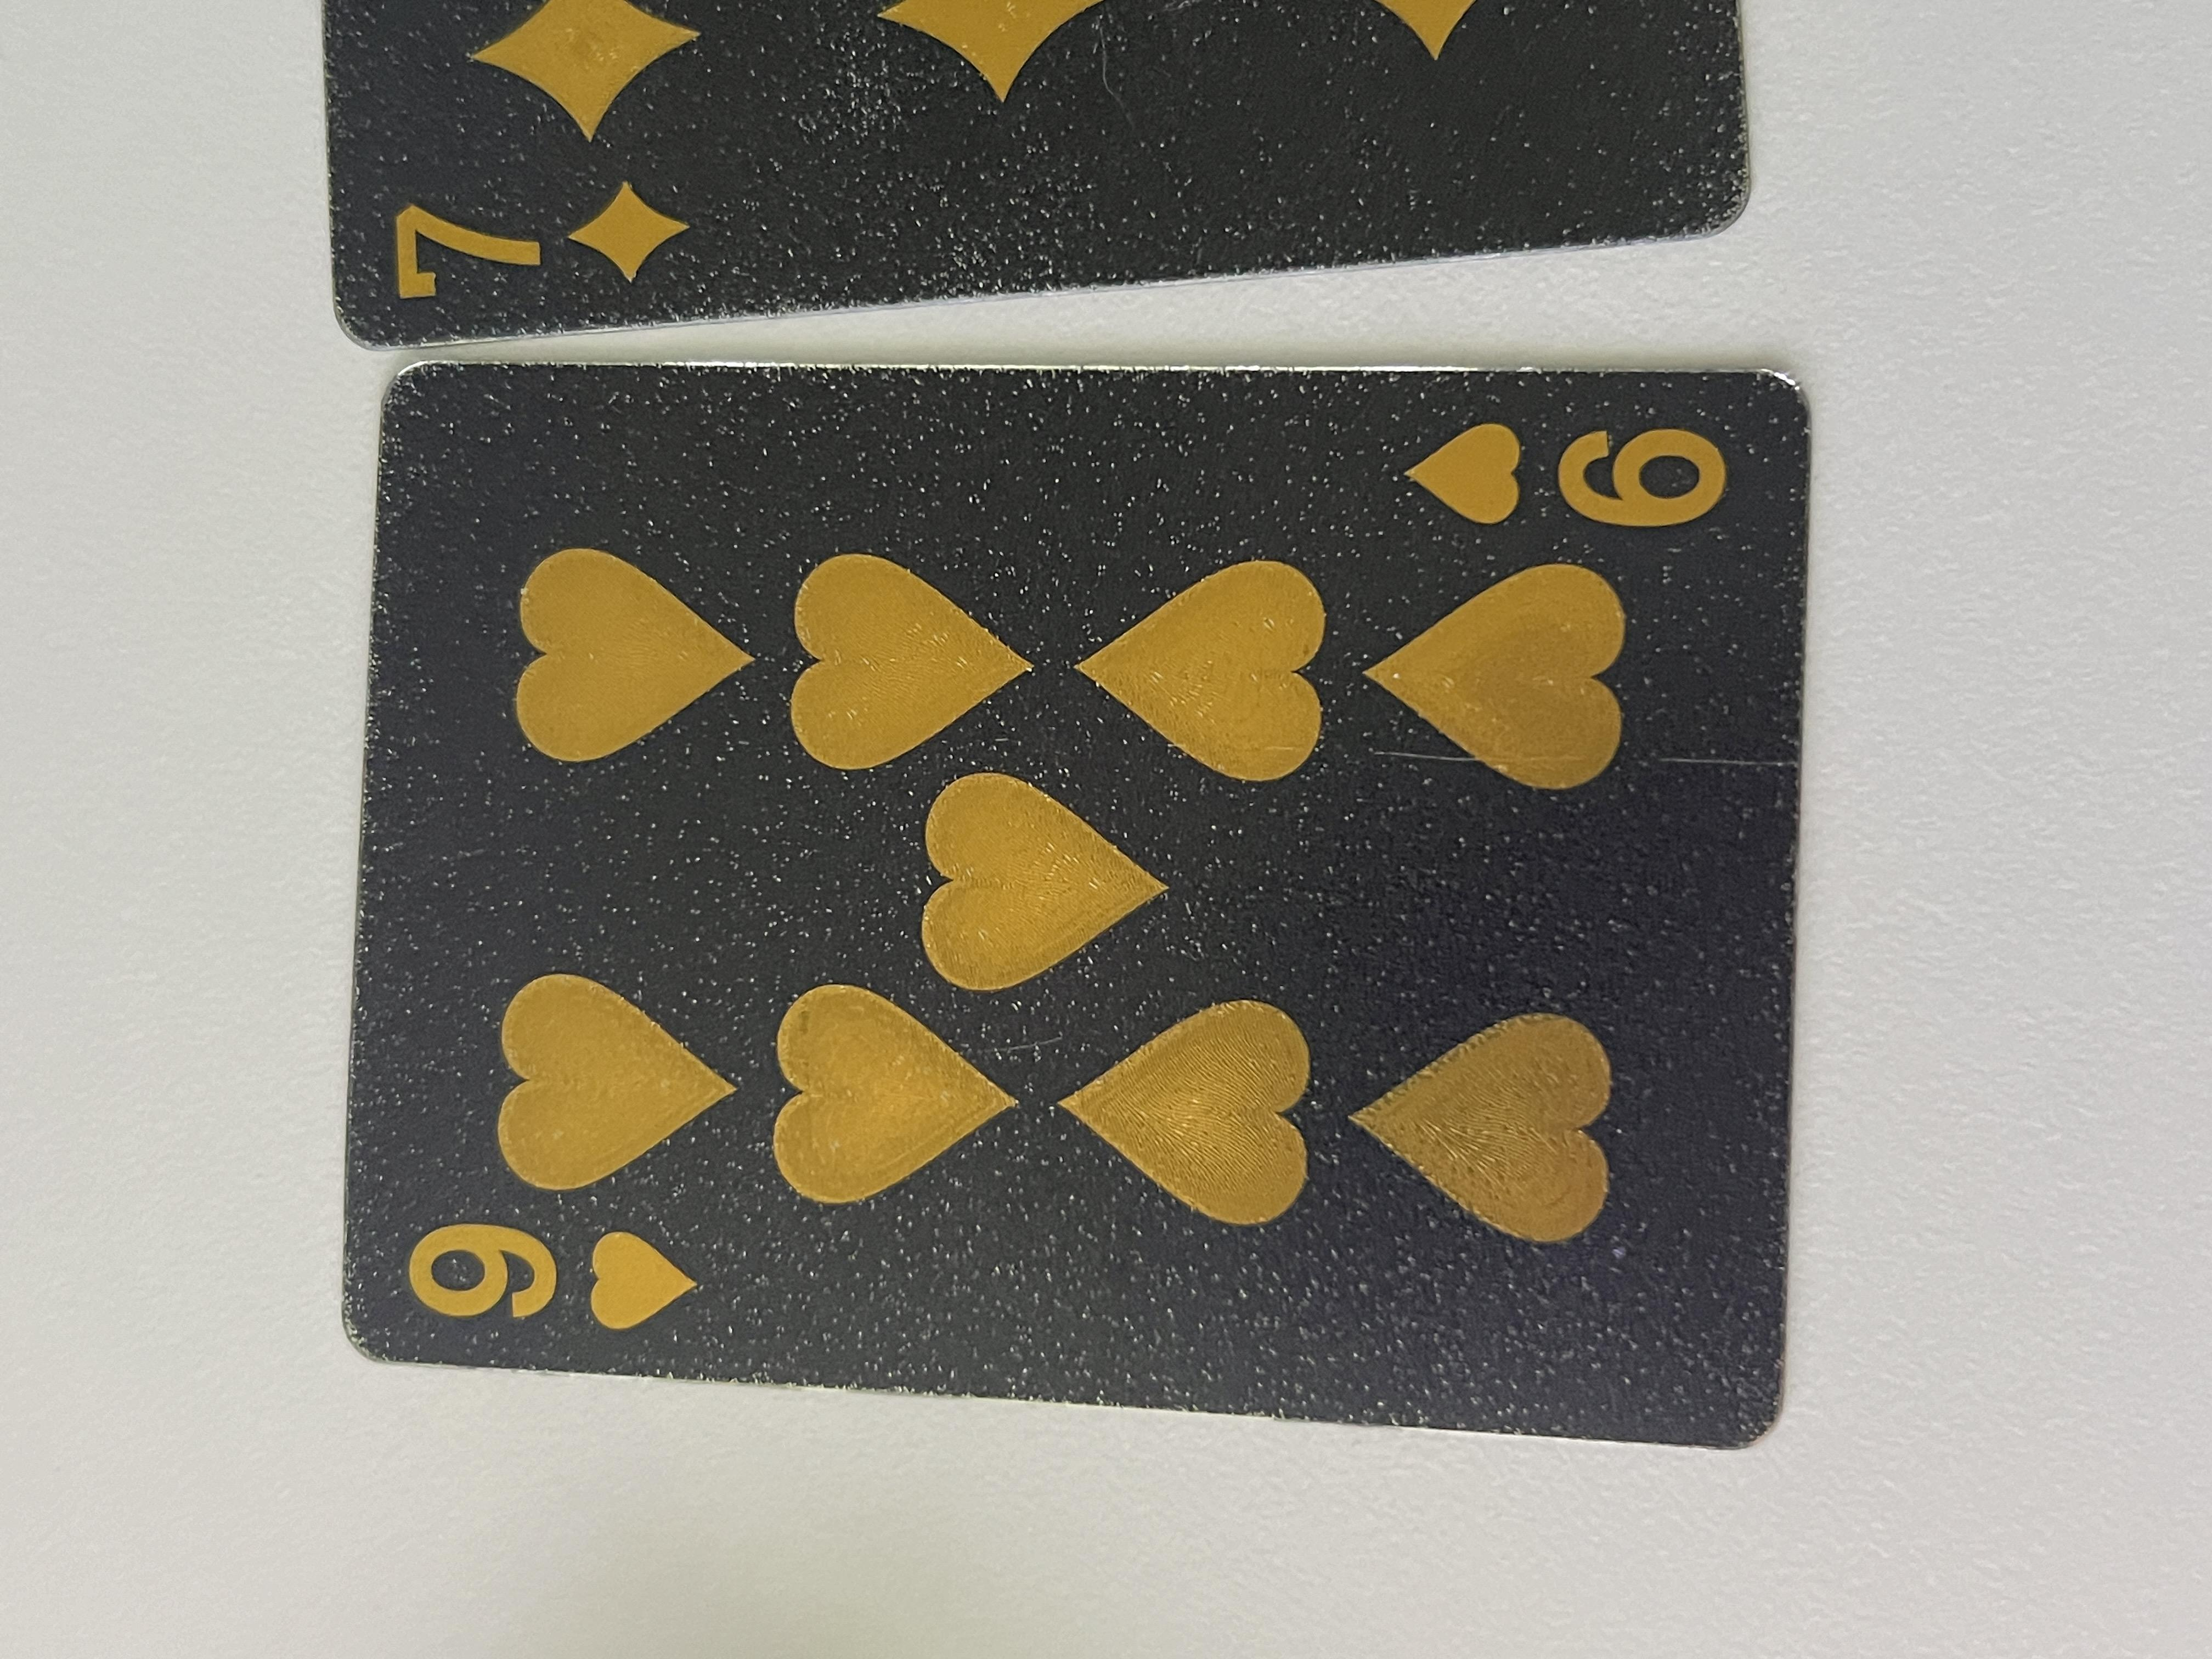7D: (1766, 277, 2029, 523)
9H: (420, 298, 625, 537), (1507, 1049, 1656, 1312)
